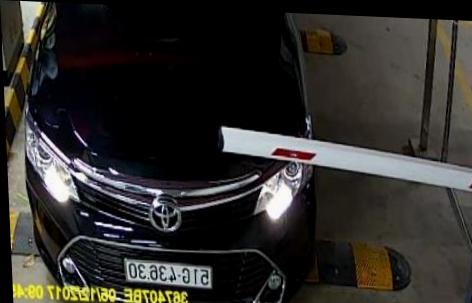License_Plate: (125, 255, 217, 289)
